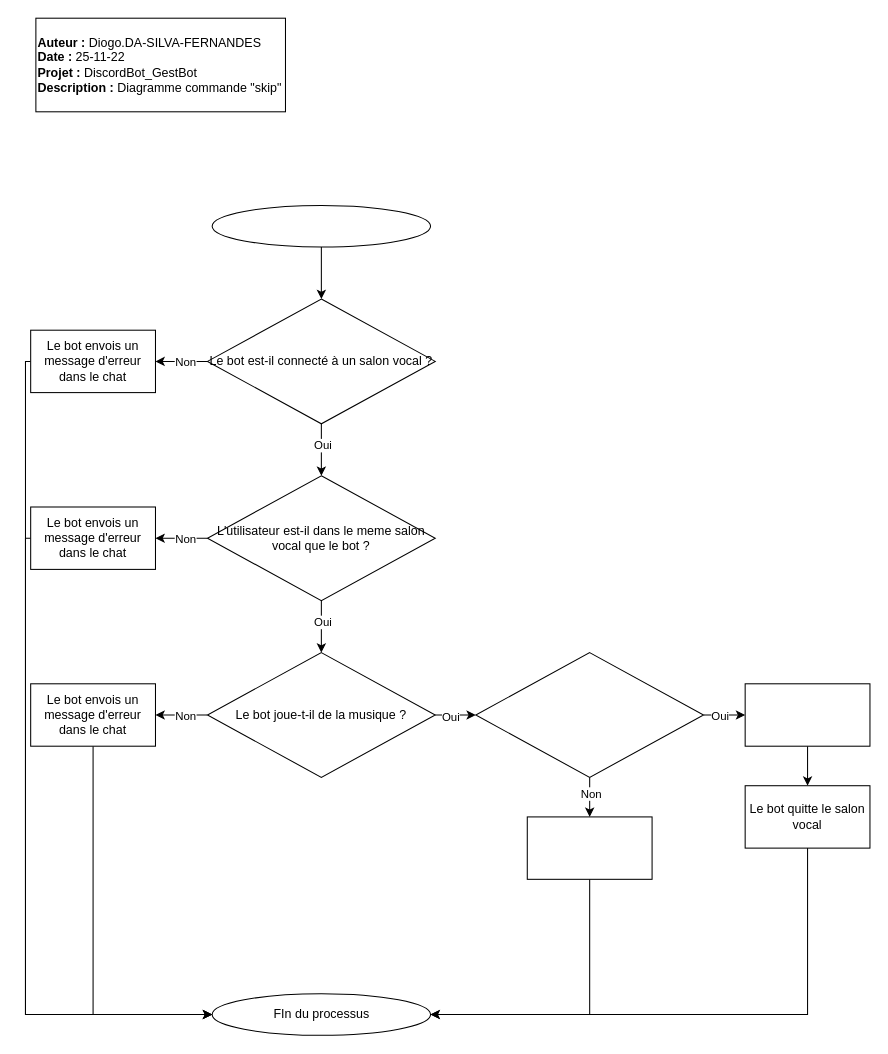
Image size: 888x1054. Some labels were removed from this diagram. Each missing label, with the centre of its shape:
"L'utilisateur tape la commande" belongs at point (321, 225).
"La file d'attente est-elle vide ?" belongs at point (589, 714).
"Le bot arrete la musique actuelle" belongs at point (807, 714).
"Le bot joue la prochaine musique dans la liste d'attente" belongs at point (589, 847).
